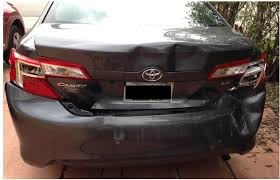Broken-glass: (215, 58, 265, 90), (12, 58, 46, 87)
Dent: (124, 43, 210, 76), (224, 87, 266, 149)
